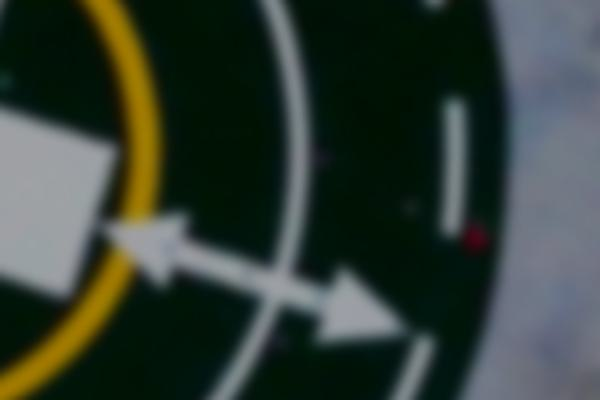Apron: (1, 1, 190, 395)
